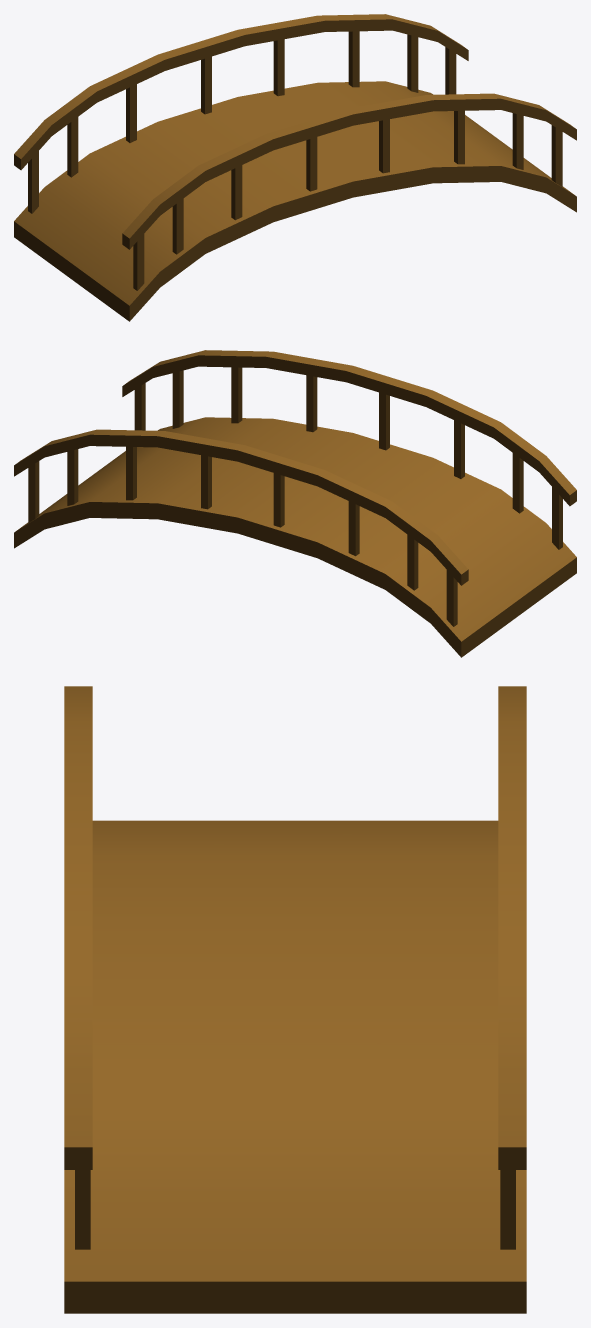
The model's file is bridge.fbx.
The picture shows the model from 3 angles, top to bottom: view 1: azimuth 30°, elevation 25°; view 2: azimuth 150°, elevation 25°; view 3: azimuth 270°, elevation 25°; orthographic projection. The views are drawn at different scales.
Parts seen in each view (by area): view 1: Cylinder; view 2: Cylinder; view 3: Cylinder.
Boxes of the visible parts, x1,y1,x2,y2 form: Cylinder: [14, 14, 576, 321]; Cylinder: [14, 350, 576, 657]; Cylinder: [64, 686, 526, 1313].
Size of the model in its own units: 447 by 146 by 200.
